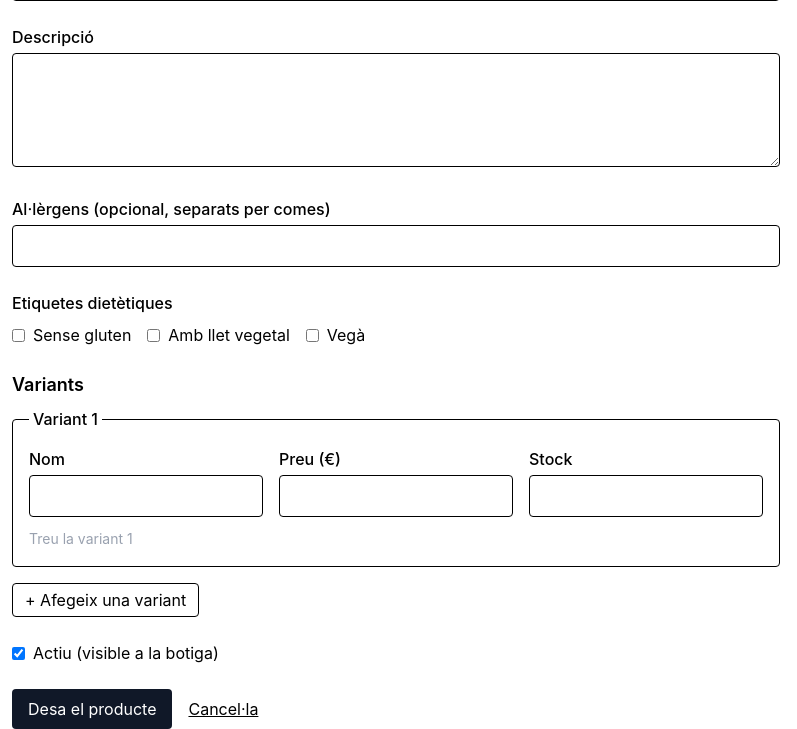
Test: NewProductPage › adds and removes variants
This screenshot has width=797, height=729.
(page scrolled)
# When the admin adds a variant and removes it again
Click the button "+ Afegeix una variant": [106, 600] box [12,583,199,617]
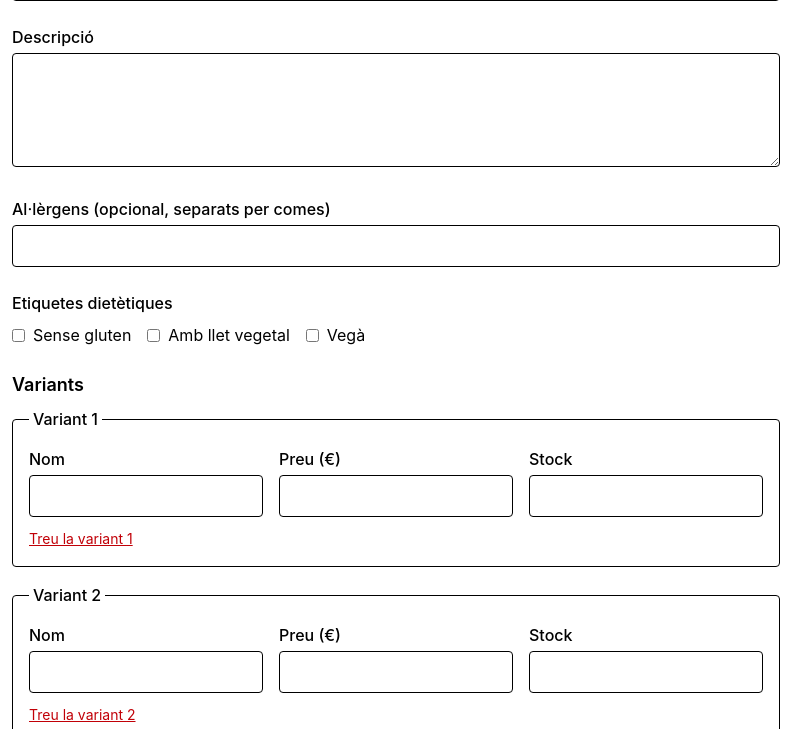
Click the button "Treu la variant 2": [82, 715] box [29,705,136,725]
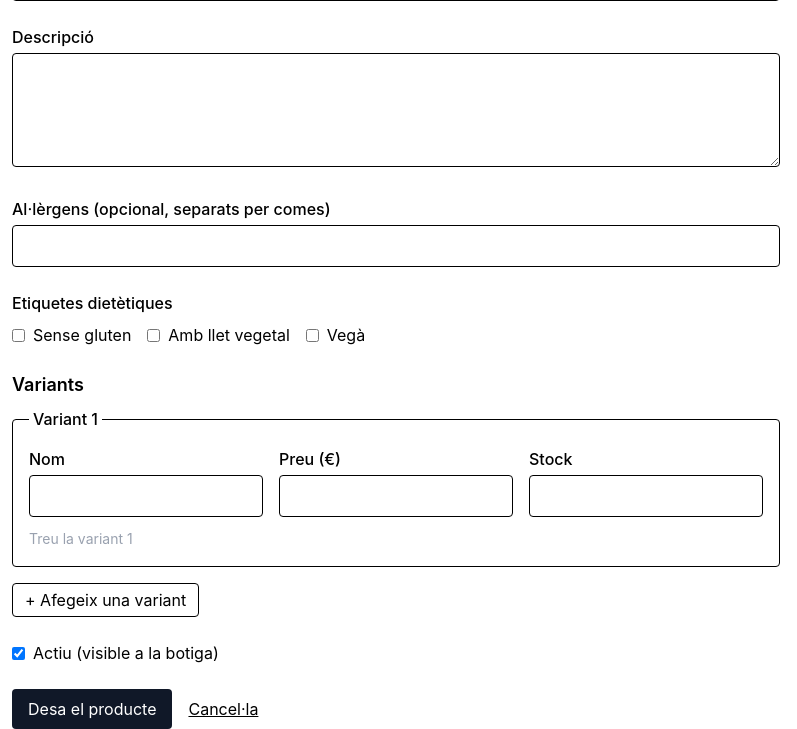
Now the text "Variant 2" is gone
Now the button "Treu la variant 1" is disabled, box [29,529,133,549]
